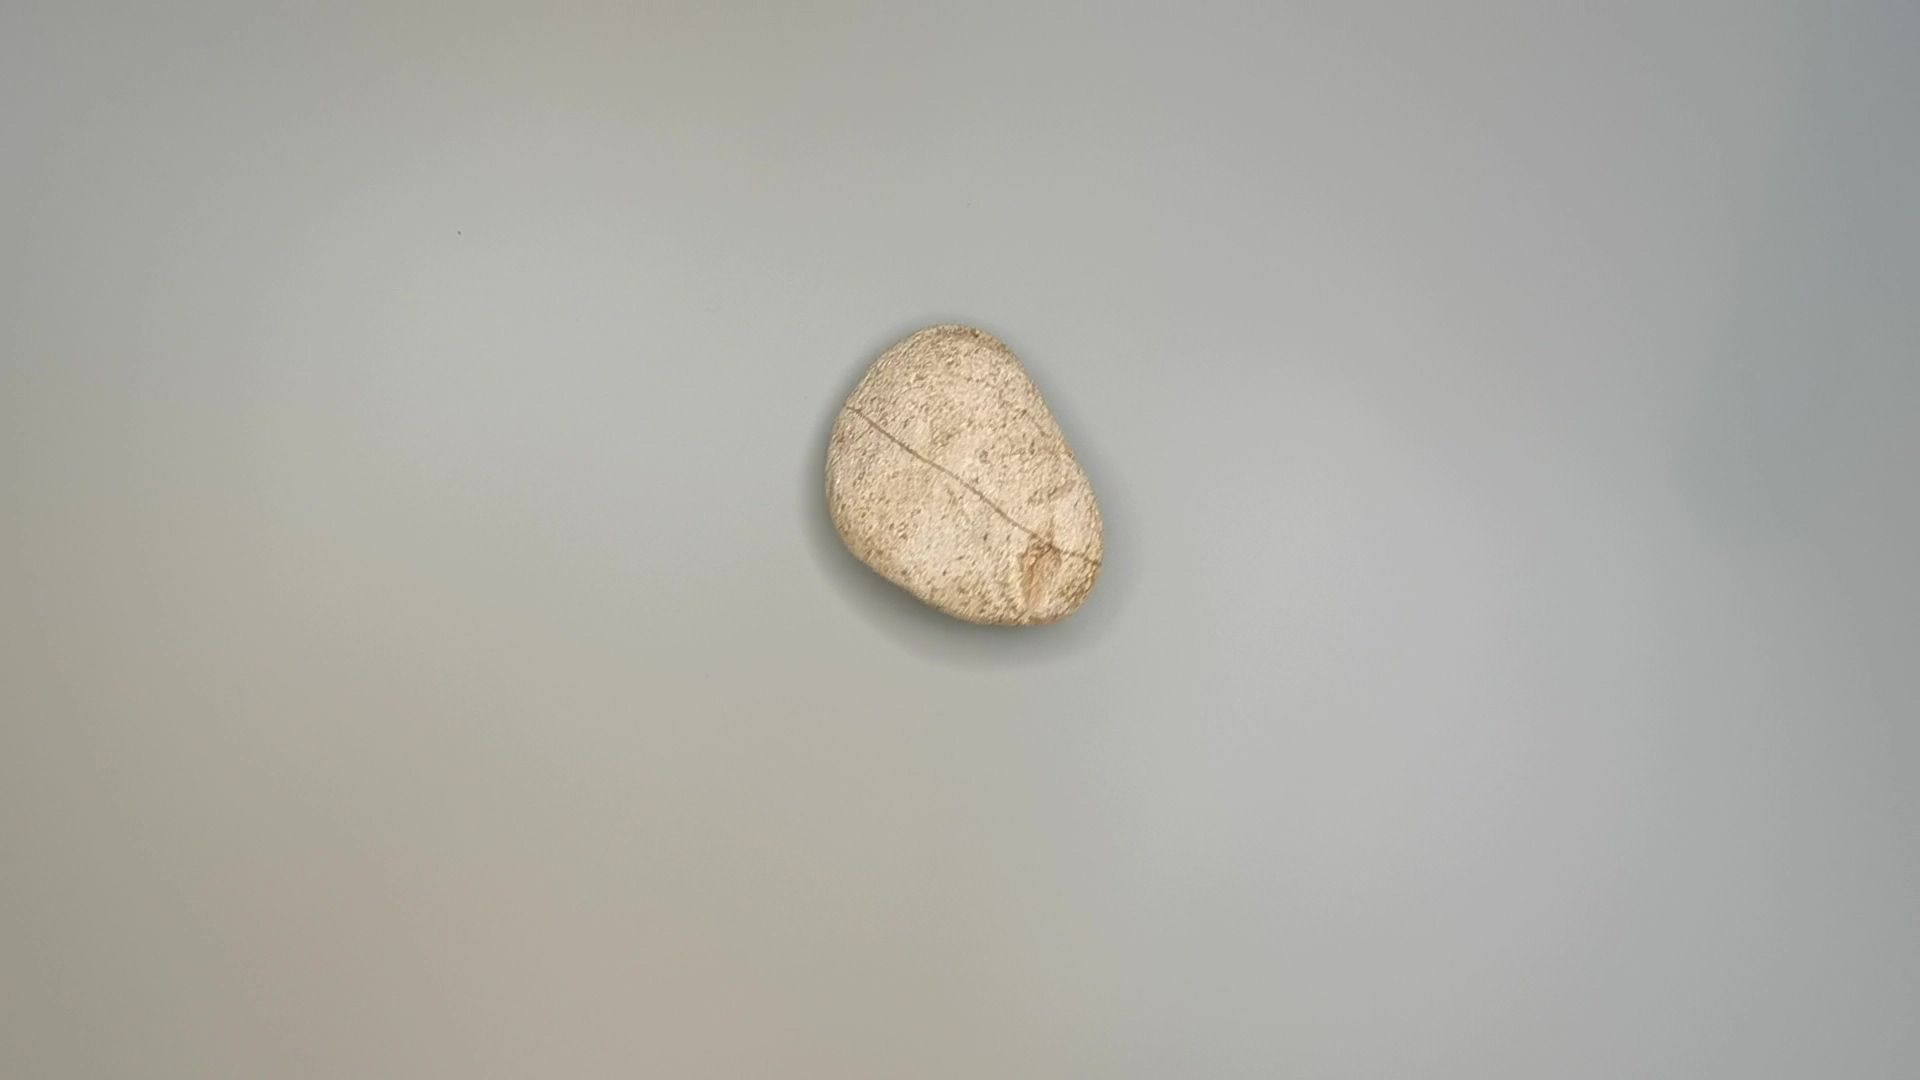ceramic: (822, 313, 1106, 632)
